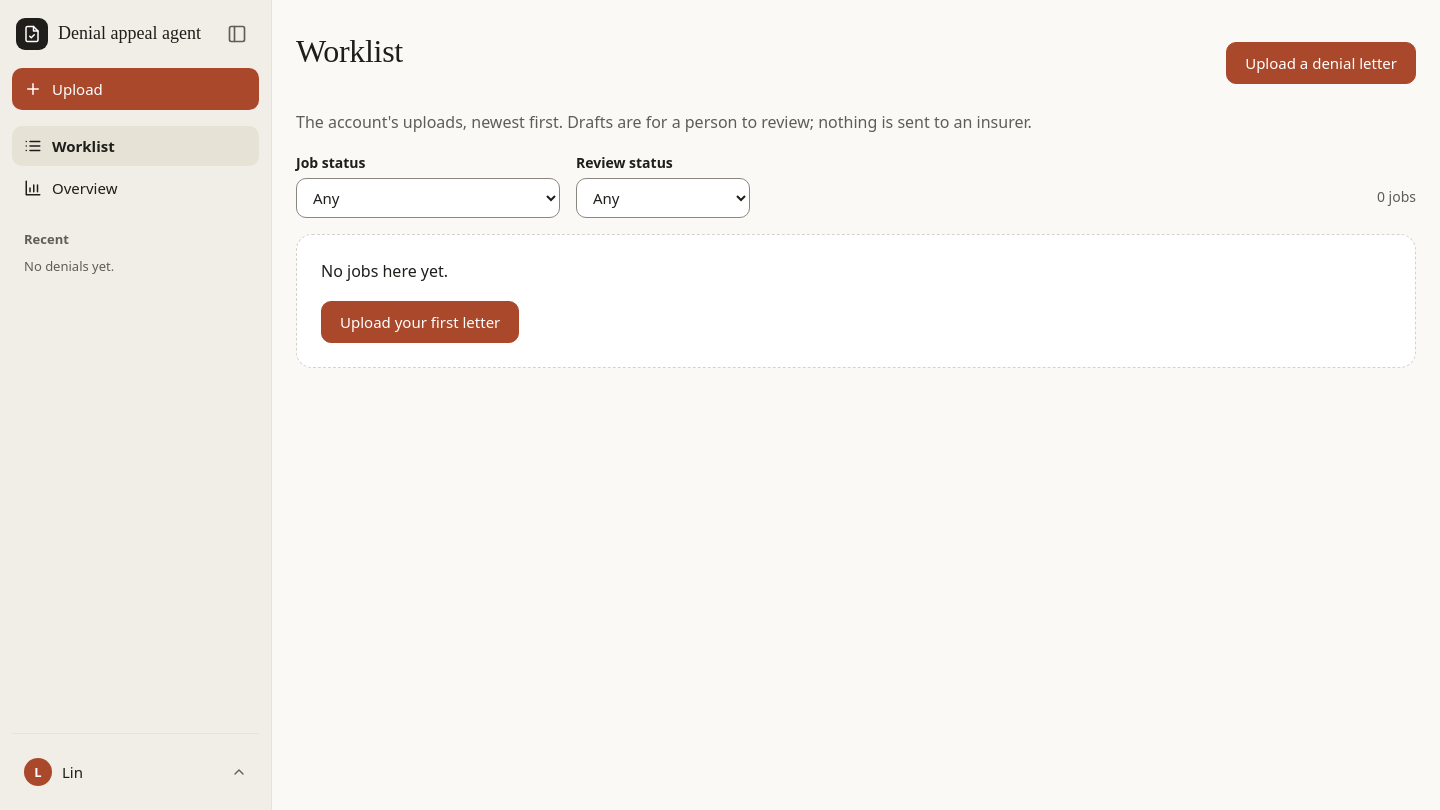
Test: AppLayout › opens the delete step for an individual from the menu
Click the button "L Lin": {"x": 136, "y": 772} [16,750,255,794]
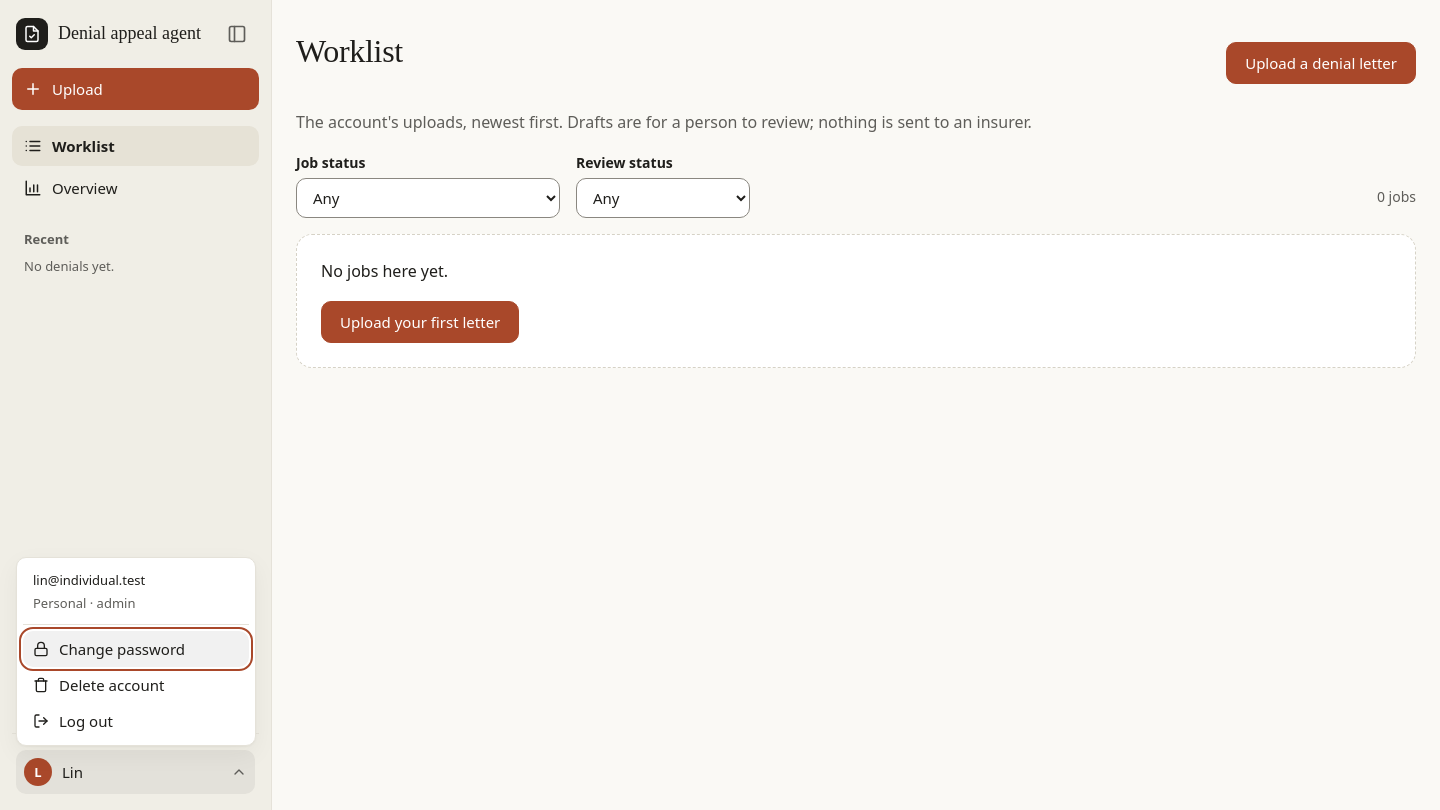
Click the menu item "Delete account": {"x": 99, "y": 685} [33,675,164,695]
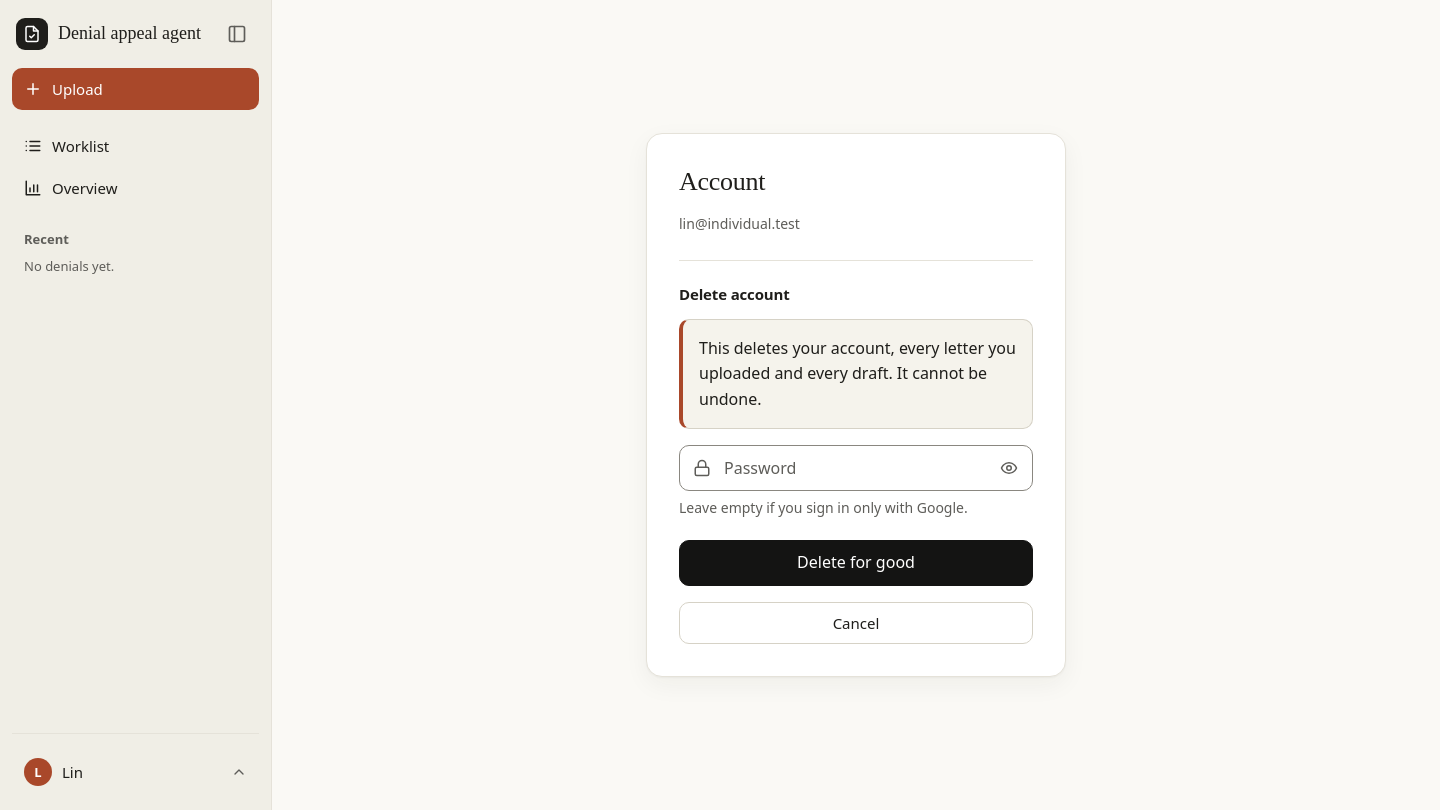
Expected: the button "Delete for good" is shown, [679,540,1033,586]
Expected: the menu is gone
